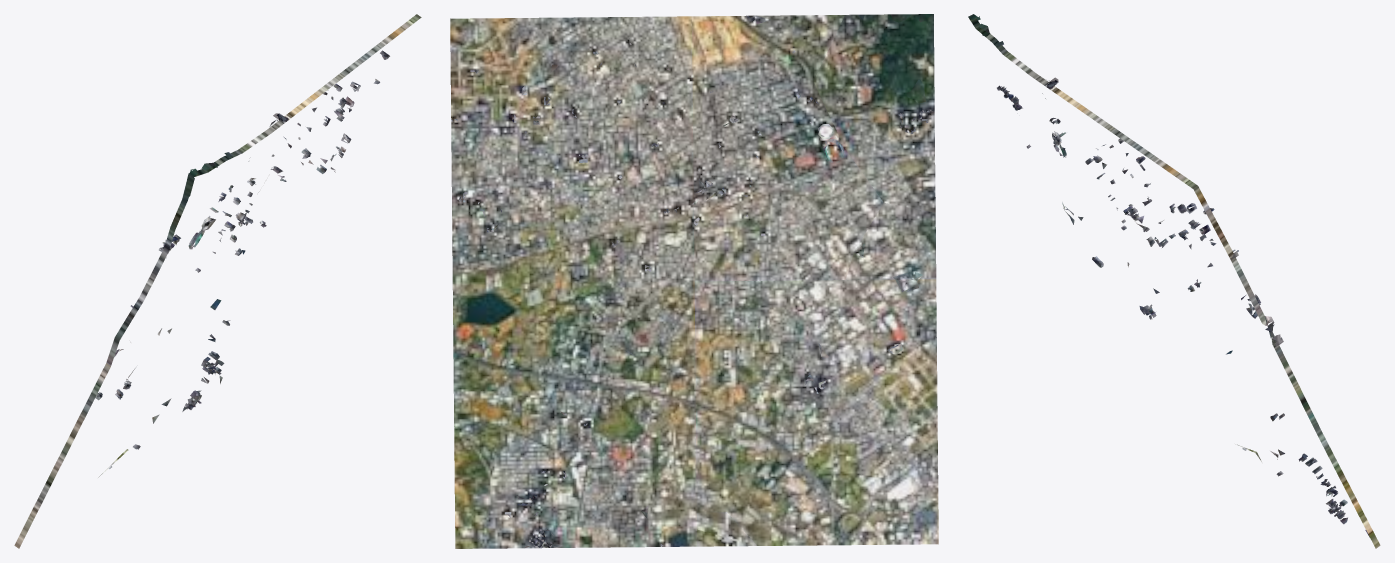
3 views of the same model, side by side, from view 1: azimuth 30°, elevation 25°; view 2: azimuth 150°, elevation 25°; view 3: azimuth 270°, elevation 25° (orthographic). The views are drawn at different scales.
Bounding box in the file's own units: 4906 × 4504 × 4055.
1 material, 1 textured.
